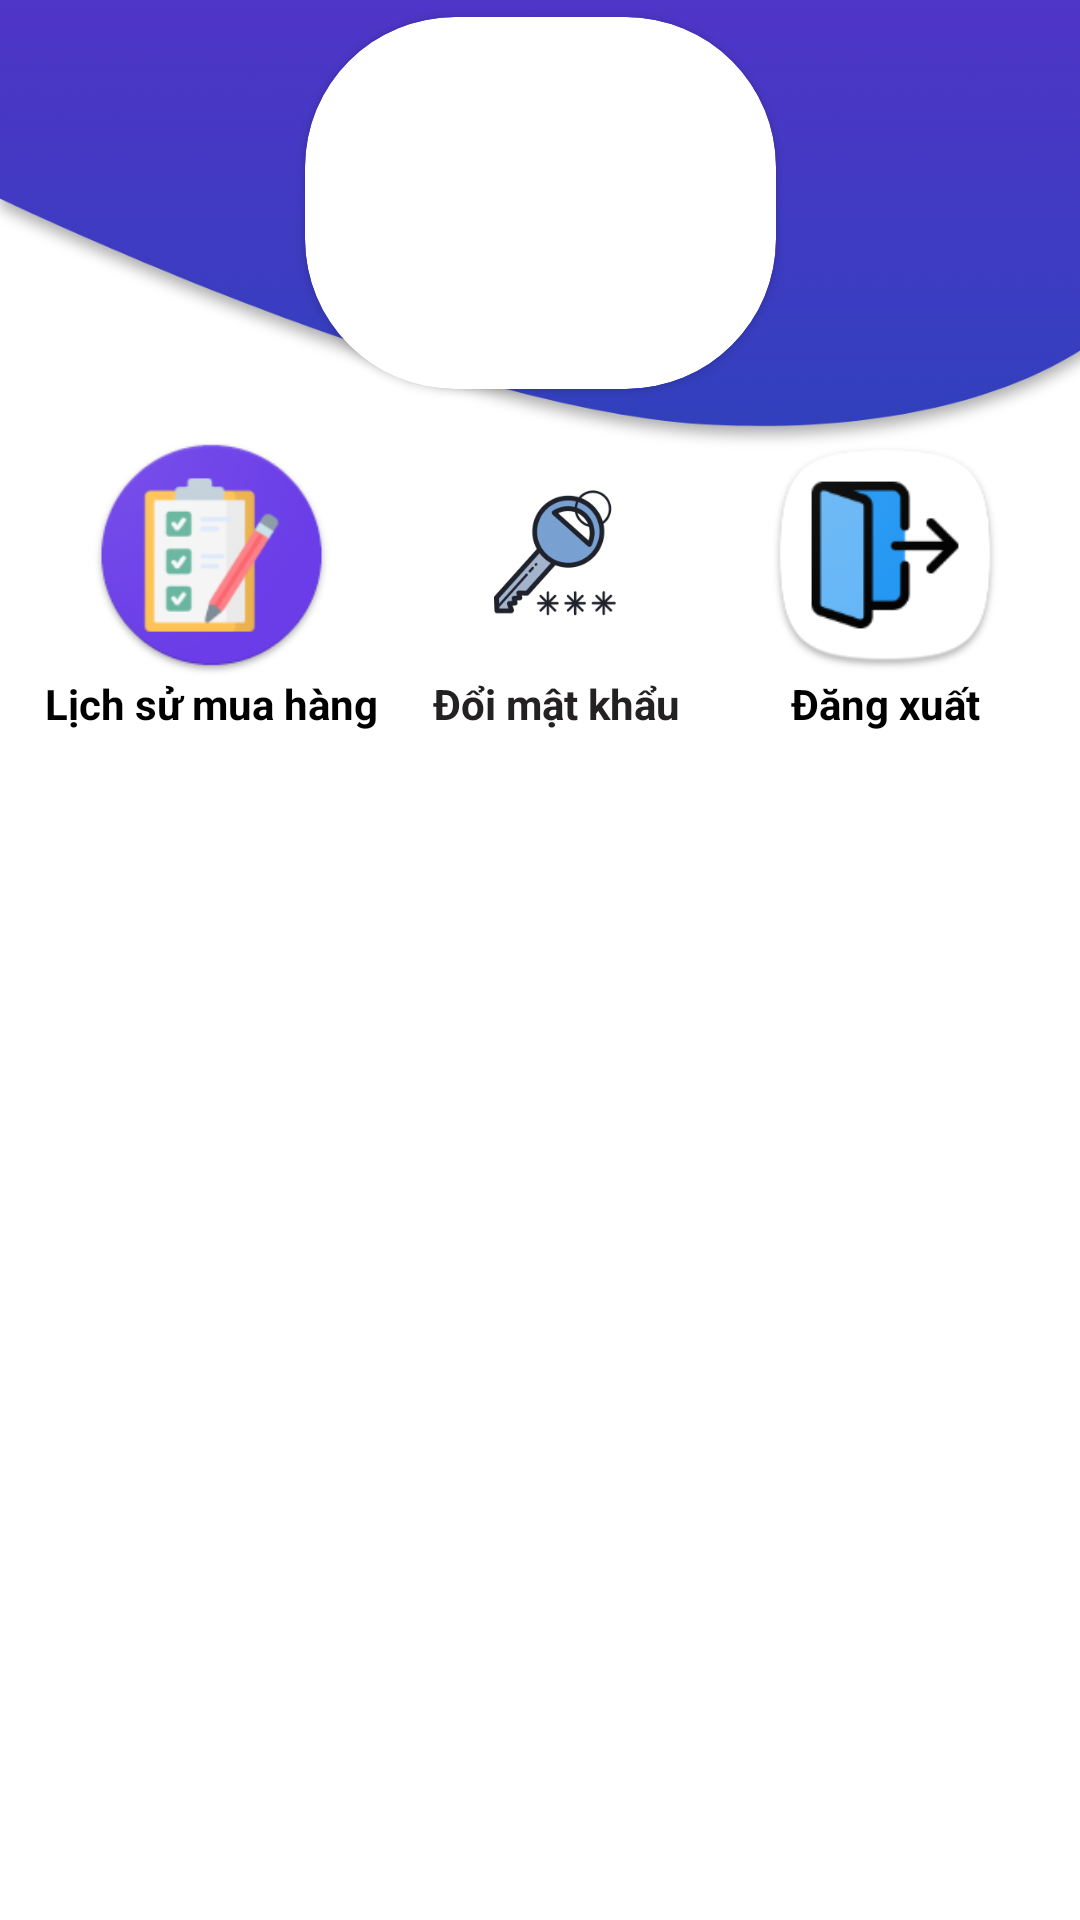

Named icons in this screenshot (1080px×1920px) and their bounding boxes, bbox=(x1, y1, x2, y2):
iconpass: bbox=(494, 490, 616, 616)
